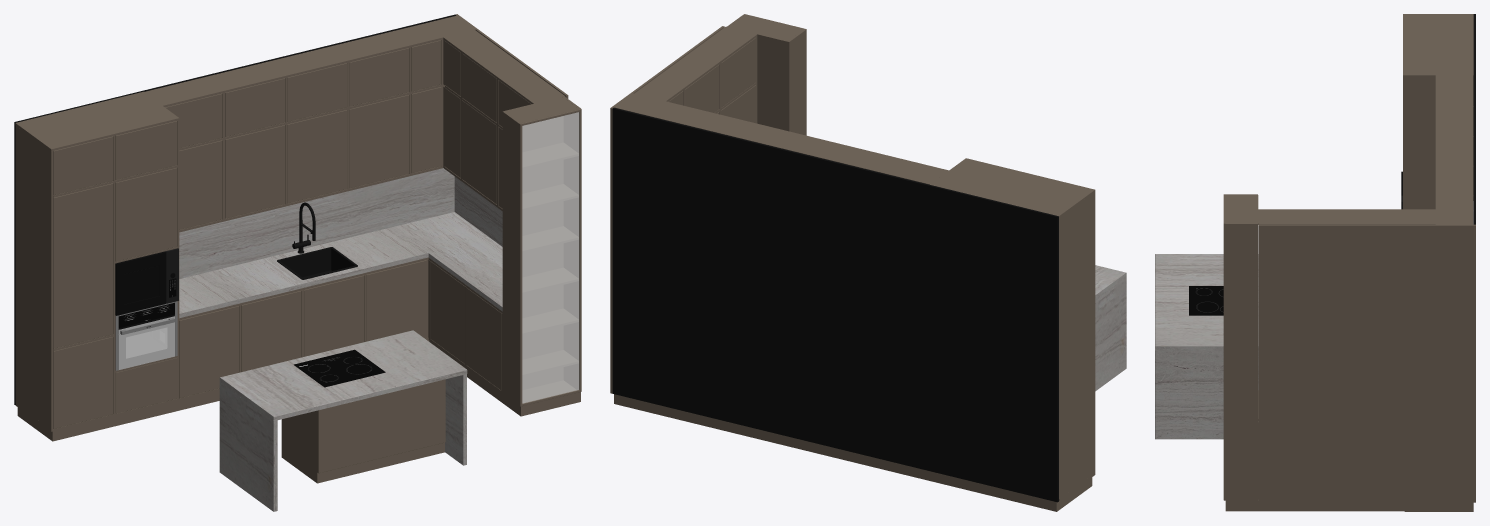
The model's file is modern-kitchen-set-3.obj.
3 views of the same model, side by side, from view 1: azimuth 30°, elevation 25°; view 2: azimuth 150°, elevation 25°; view 3: azimuth 270°, elevation 25° (orthographic). The views are drawn at different scales.
Parts seen in each view (by area): view 1: Rectangle13581515, Microwelle_light013, Microwave_oven004; view 2: Rectangle13581515; view 3: Rectangle13581515.
Boxes of the visible parts, bbox=[...] form: Rectangle13581515: bbox=[14, 14, 581, 511]; Microwelle_light013: bbox=[115, 301, 177, 370]; Microwave_oven004: bbox=[115, 248, 178, 315]; Rectangle13581515: bbox=[610, 14, 1126, 511]; Rectangle13581515: bbox=[1155, 14, 1475, 511].
Bounding box in the file's own units: 427 × 270 × 274.
Materials: 11 (3 with a texture image).
